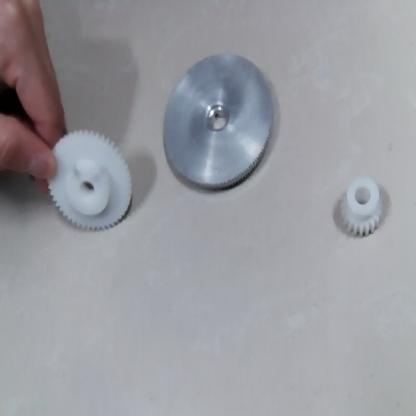FOD: (160, 46, 274, 198), (44, 130, 134, 233), (333, 170, 389, 245)
